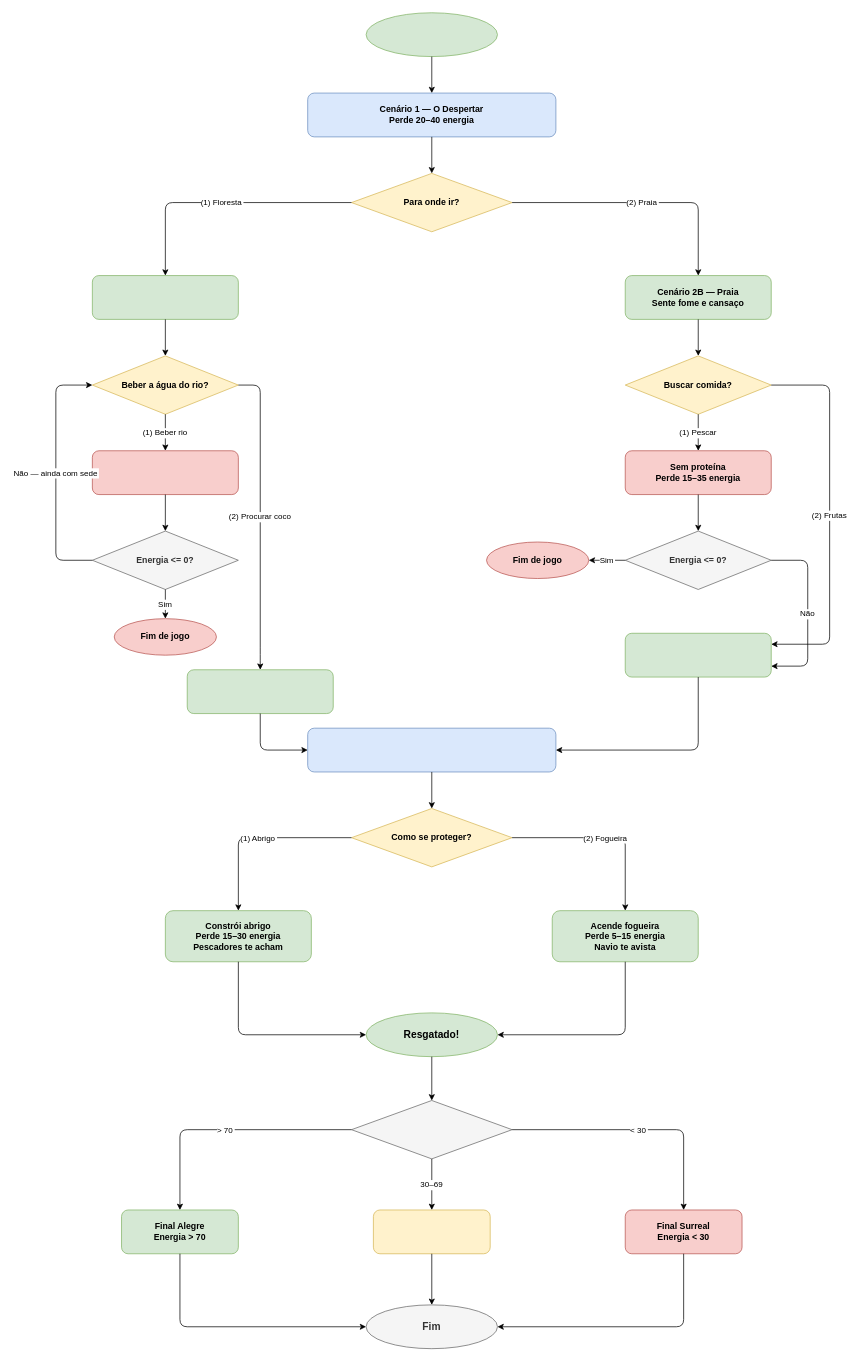
Some shapes in this 861 by 1361 pixel diagram are drawn without their labels. Each missing label, with the centre of its shape:
"Cenário 2A — Floresta Encontra um rio" belongs at [165,297].
"Cenário 3 — A Noite Chega Encontra destroços do barco" belongs at [431,749].
"Final Irônico Energia 30–69" belongs at [431,1231].
"Frutas tropicais Ganha 10–25 energia" belongs at [698,655].
"Início Energia = 100" belongs at [431,34].
"Nível de energia?" belongs at [431,1129].
"Água contaminada Perde 15–35 energia" belongs at [165,472].
"Água de coco Ganha 5–15 energia" belongs at [260,691].
